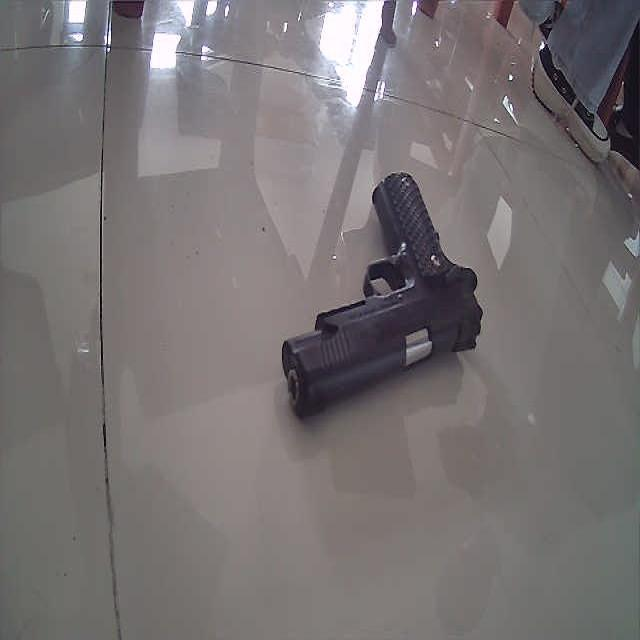pistol: (281, 157, 478, 428)
